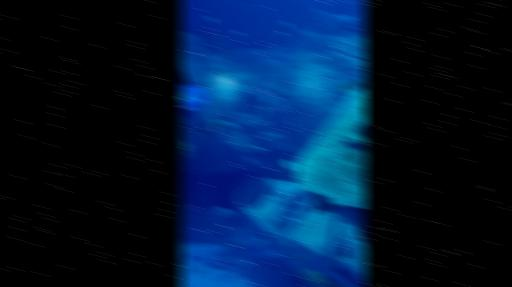Fish: (310, 194, 365, 242), (329, 205, 364, 241), (313, 10, 358, 32), (300, 269, 333, 286), (310, 194, 335, 213), (181, 91, 206, 109), (207, 117, 236, 131), (338, 80, 365, 92), (213, 207, 234, 216), (343, 141, 364, 149), (254, 96, 265, 111), (356, 122, 365, 136), (283, 162, 294, 173), (340, 245, 349, 257), (296, 251, 305, 262), (189, 130, 202, 137), (282, 88, 291, 96), (251, 146, 264, 151), (183, 142, 190, 151), (187, 206, 196, 211), (278, 31, 287, 36), (233, 30, 242, 35), (281, 23, 290, 27), (206, 18, 215, 22), (259, 162, 266, 166), (186, 120, 190, 124), (199, 48, 203, 50)
